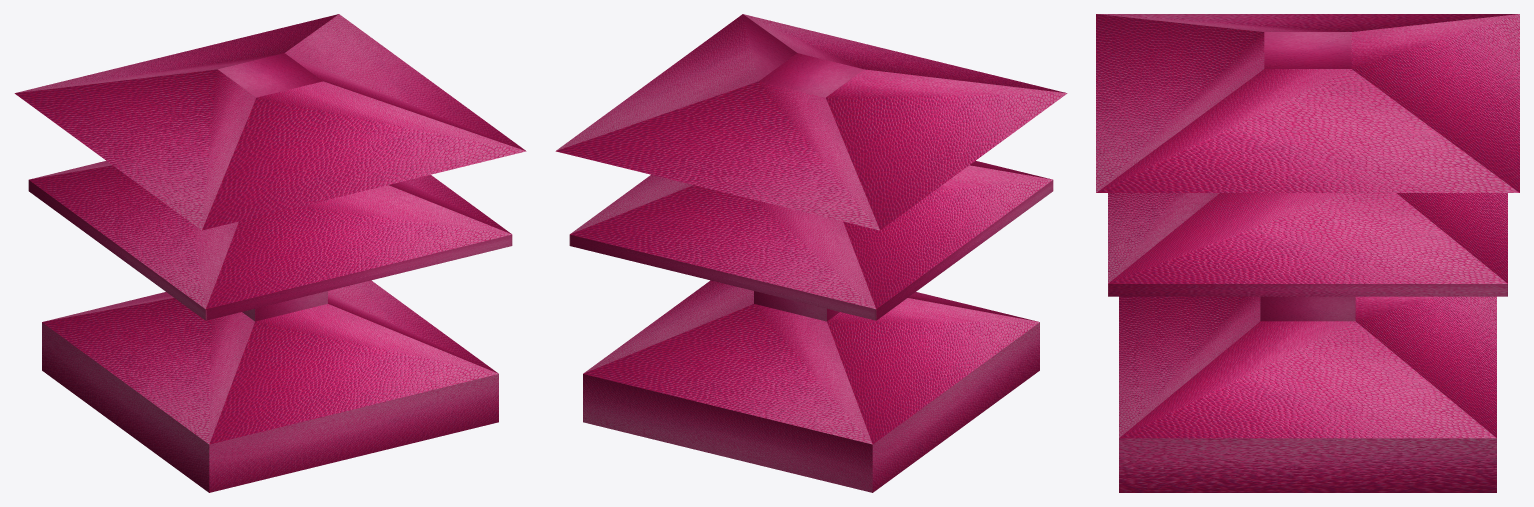
File: Potenciador0.dae
The picture shows the model from 3 angles, left to right: view 1: azimuth 30°, elevation 25°; view 2: azimuth 150°, elevation 25°; view 3: azimuth 270°, elevation 25°; orthographic projection. The views are drawn at different scales.
Visible parts, largest first — view 1: Cube; view 2: Cube; view 3: Cube.
Boxes of the visible parts, x1,y1,x2,y2 form: Cube: (14,14,526,492); Cube: (555,14,1067,492); Cube: (1096,14,1519,492).
Bounding box in the file's own units: 1.19 × 1.19 × 1.12.
1 material, 1 textured.
